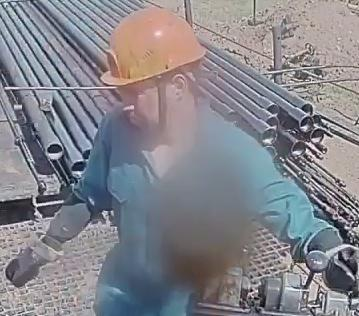gloves: (4, 230, 63, 287)
helmet: (99, 5, 206, 86)
vest: (97, 111, 257, 316)
